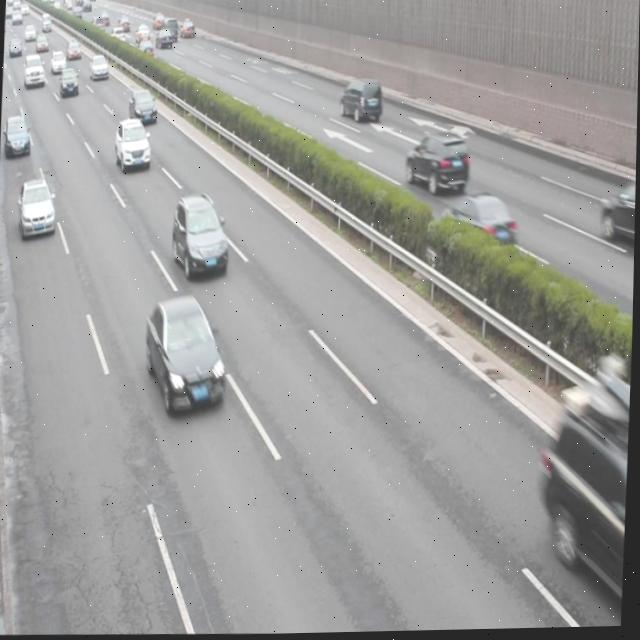car: (542, 389, 632, 598), (145, 295, 231, 421), (172, 192, 232, 282), (440, 192, 517, 260), (403, 130, 471, 196), (18, 176, 57, 241), (338, 75, 383, 126), (114, 117, 152, 174), (4, 112, 33, 159), (128, 88, 159, 128)
